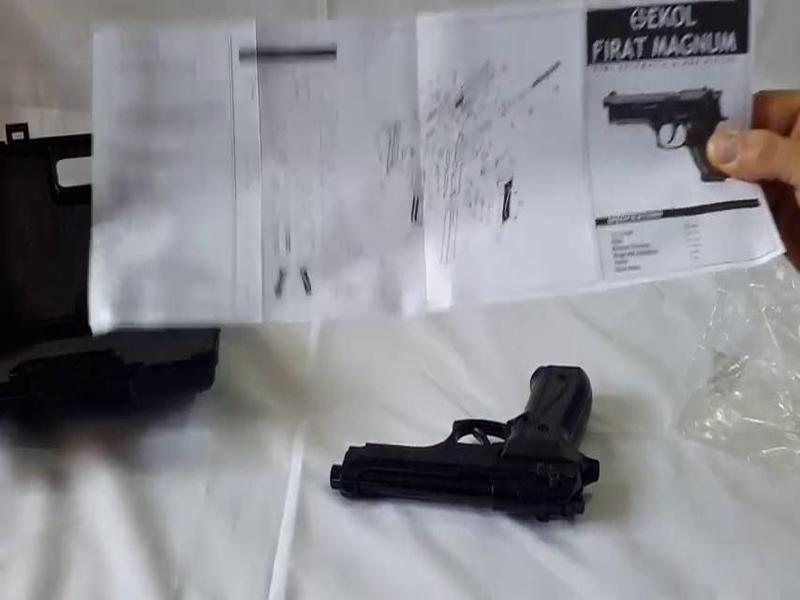Pistola: (314, 333, 657, 562)
